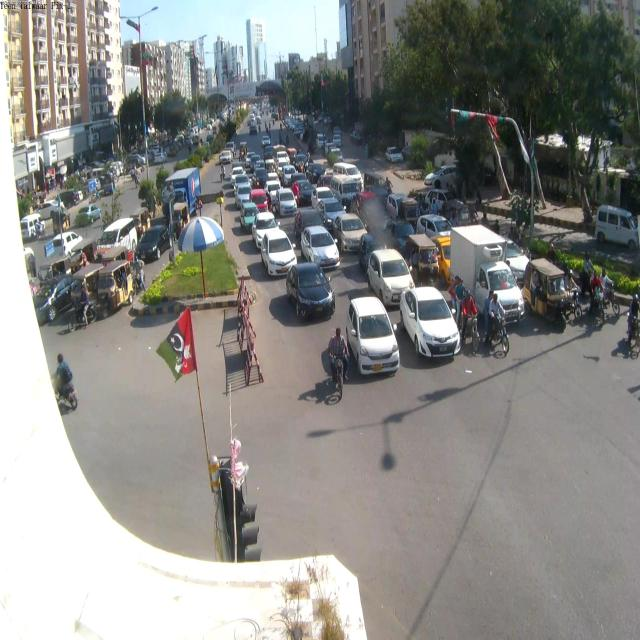car: (398, 285, 464, 361), (346, 296, 402, 377), (520, 258, 578, 328), (365, 248, 417, 308), (481, 260, 527, 324), (286, 263, 336, 320), (255, 226, 297, 276), (407, 234, 448, 285), (299, 225, 343, 272), (334, 213, 368, 253), (138, 222, 170, 262), (314, 198, 348, 229), (419, 215, 452, 243), (252, 209, 279, 238), (238, 202, 260, 234), (276, 188, 297, 218), (295, 181, 320, 206), (233, 177, 253, 203), (251, 190, 273, 213), (232, 172, 253, 191), (264, 179, 282, 195), (220, 152, 232, 166), (233, 164, 245, 176)
motorbike: (475, 300, 510, 357), (484, 308, 510, 356), (49, 373, 79, 409), (327, 345, 346, 401), (462, 315, 484, 356), (66, 298, 96, 328), (460, 306, 480, 351), (624, 308, 640, 354), (600, 283, 621, 317), (562, 284, 582, 319), (588, 288, 605, 328), (129, 265, 147, 300), (56, 389, 78, 415), (470, 208, 480, 230), (384, 180, 394, 200), (220, 168, 227, 182), (300, 164, 306, 175)
truck: (448, 225, 529, 327), (436, 218, 508, 301), (595, 205, 639, 256)
